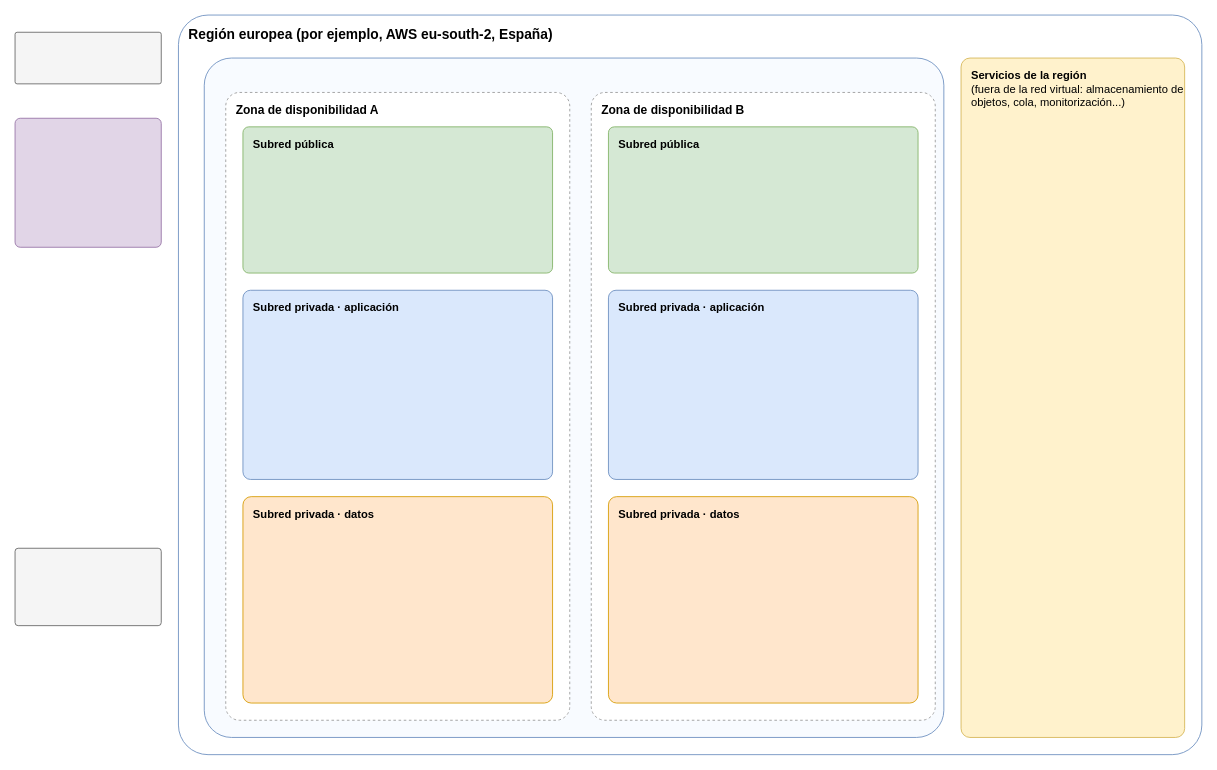
This 1217x770 diagram has some shape labels left out. The shapes that lost their labels are listed below. From the top down, each one's box as (x1, y1, x2, y2) in pixels, then its label:
(14, 31, 161, 84): Pacientes (Internet)
(14, 117, 161, 247): Servicios globales DNS, CDN, WAF
(203, 57, 944, 737): Red virtual (VPC) · producción
(14, 547, 161, 626): Centros de salud (red propia)
